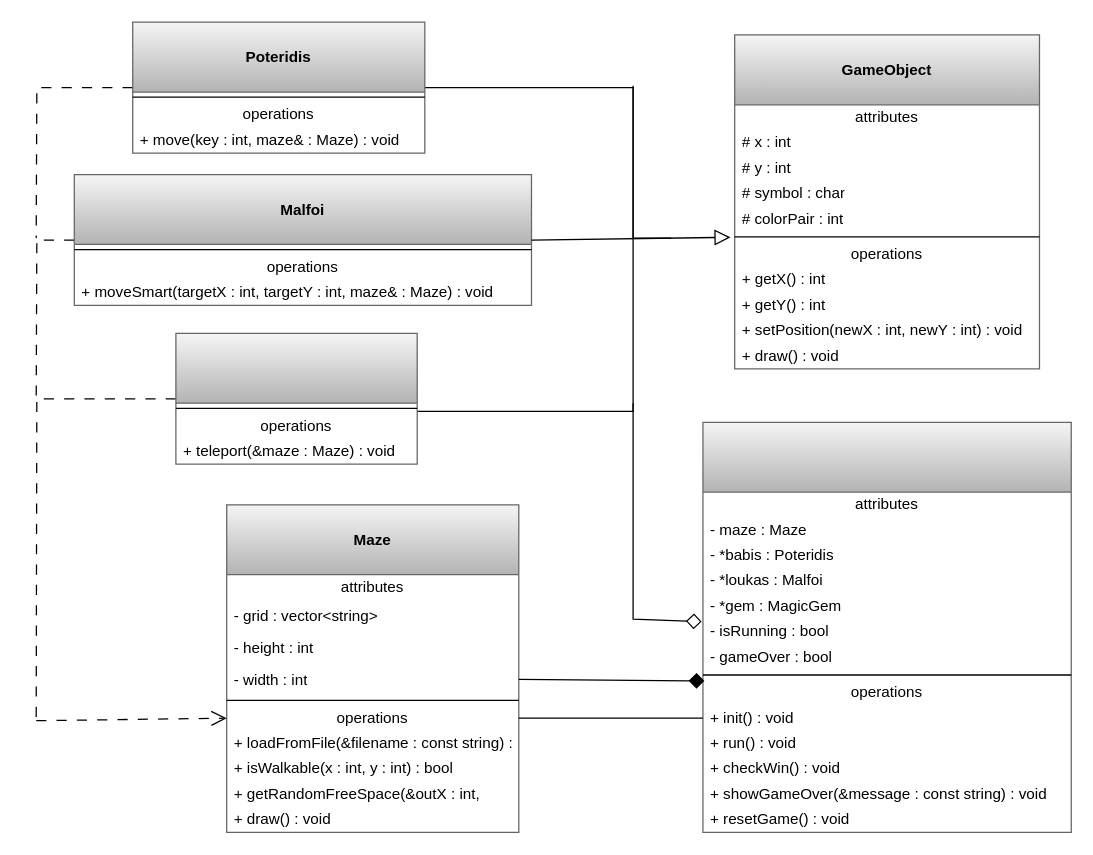
Image size: 1093x855. Some labels were removed from this diagram. The shapes that lost their labels are listed below. From the top down, each one's box as (x1, y1, x2, y2) in pixels, then its label:
(175, 332, 417, 464): MagicGem
(702, 421, 1071, 832): GameEngine
